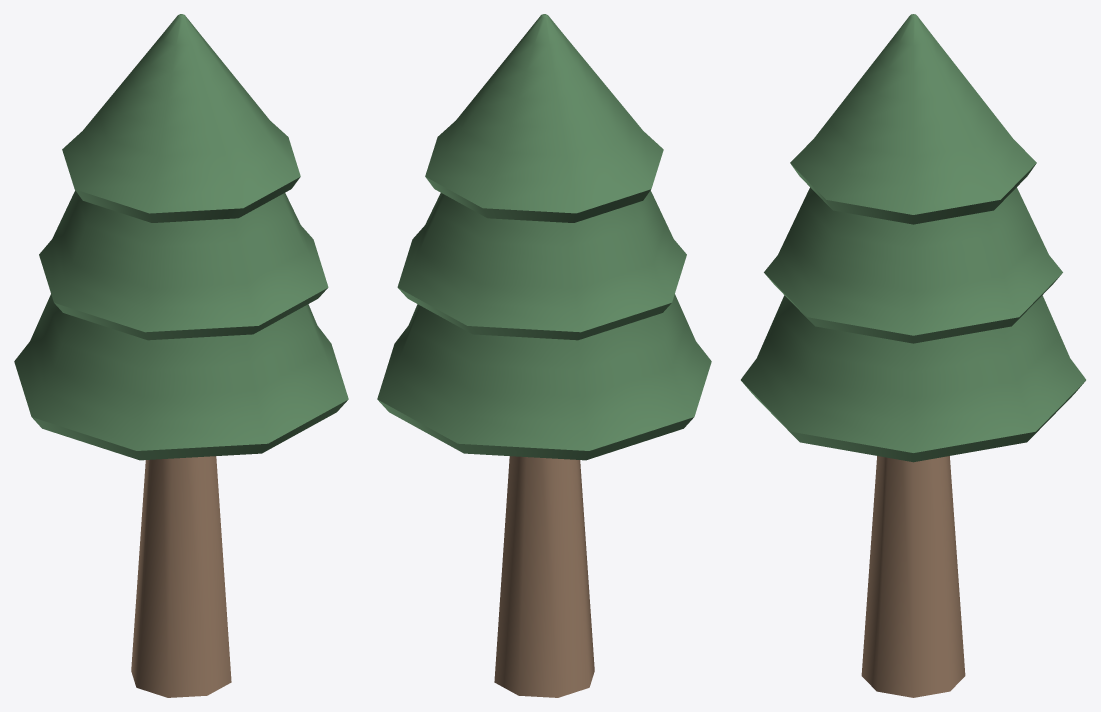
The model's file is Resource Tree (v.3).fbx.
The picture shows the model from 3 angles, left to right: view 1: azimuth 30°, elevation 25°; view 2: azimuth 150°, elevation 25°; view 3: azimuth 270°, elevation 25°; orthographic projection.
Parts seen in each view (by area): view 1: tree; view 2: tree; view 3: tree.
Boxes of the visible parts, <box> form: tree: <box>14,14,348,697</box>; tree: <box>377,14,711,697</box>; tree: <box>741,14,1085,697</box>.
Size of the model in its own units: 109 by 229 by 109.
